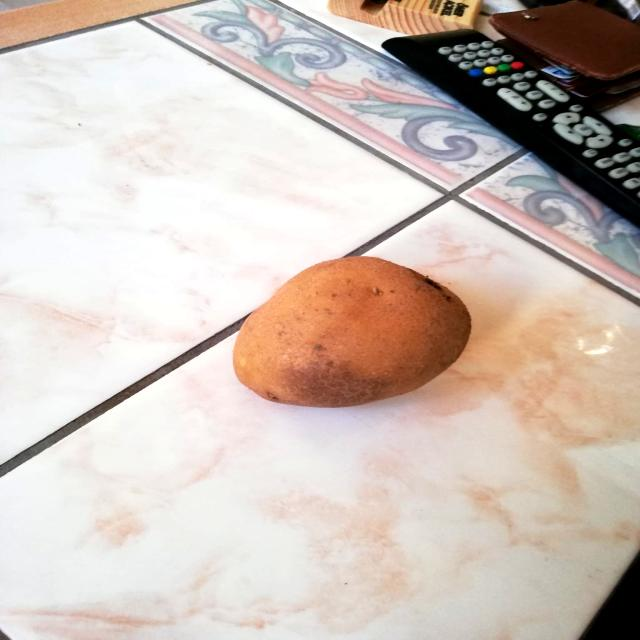potato: (224, 250, 479, 412)
